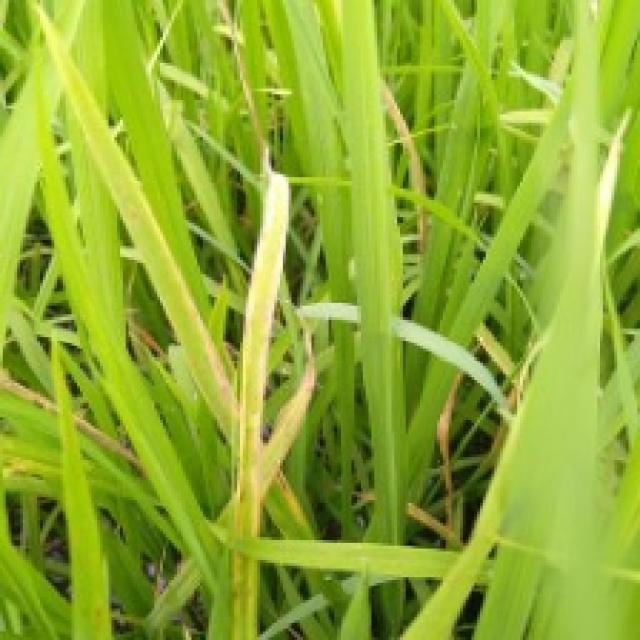Rice___Rice_Blast: (222, 172, 351, 637)
